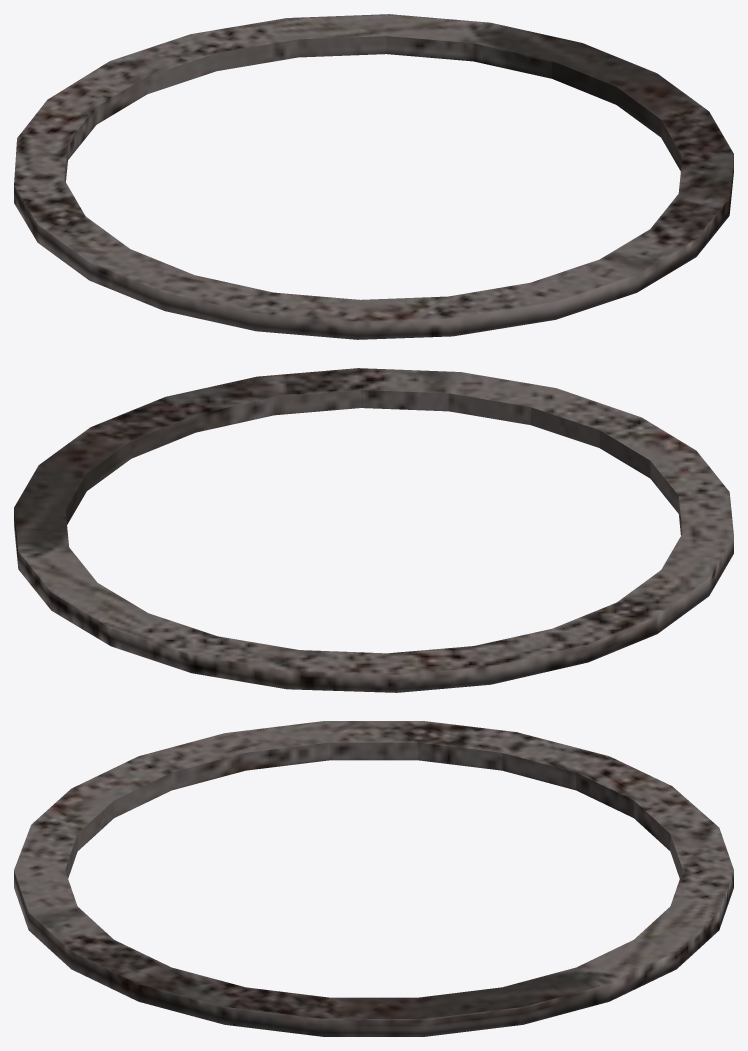
File: item1.fbx
3 renders of one model, top to bottom at view 1: azimuth 30°, elevation 25°; view 2: azimuth 150°, elevation 25°; view 3: azimuth 270°, elevation 25°, orthographic.
Parts seen in each view (by area): view 1: Item1; view 2: Item1; view 3: Item1.
Boxes of the visible parts, <box> form: Item1: <box>14,14,733,339</box>; Item1: <box>14,368,733,692</box>; Item1: <box>14,721,733,1036</box>.
Size of the model in its own units: 169 by 4.7 by 172.
